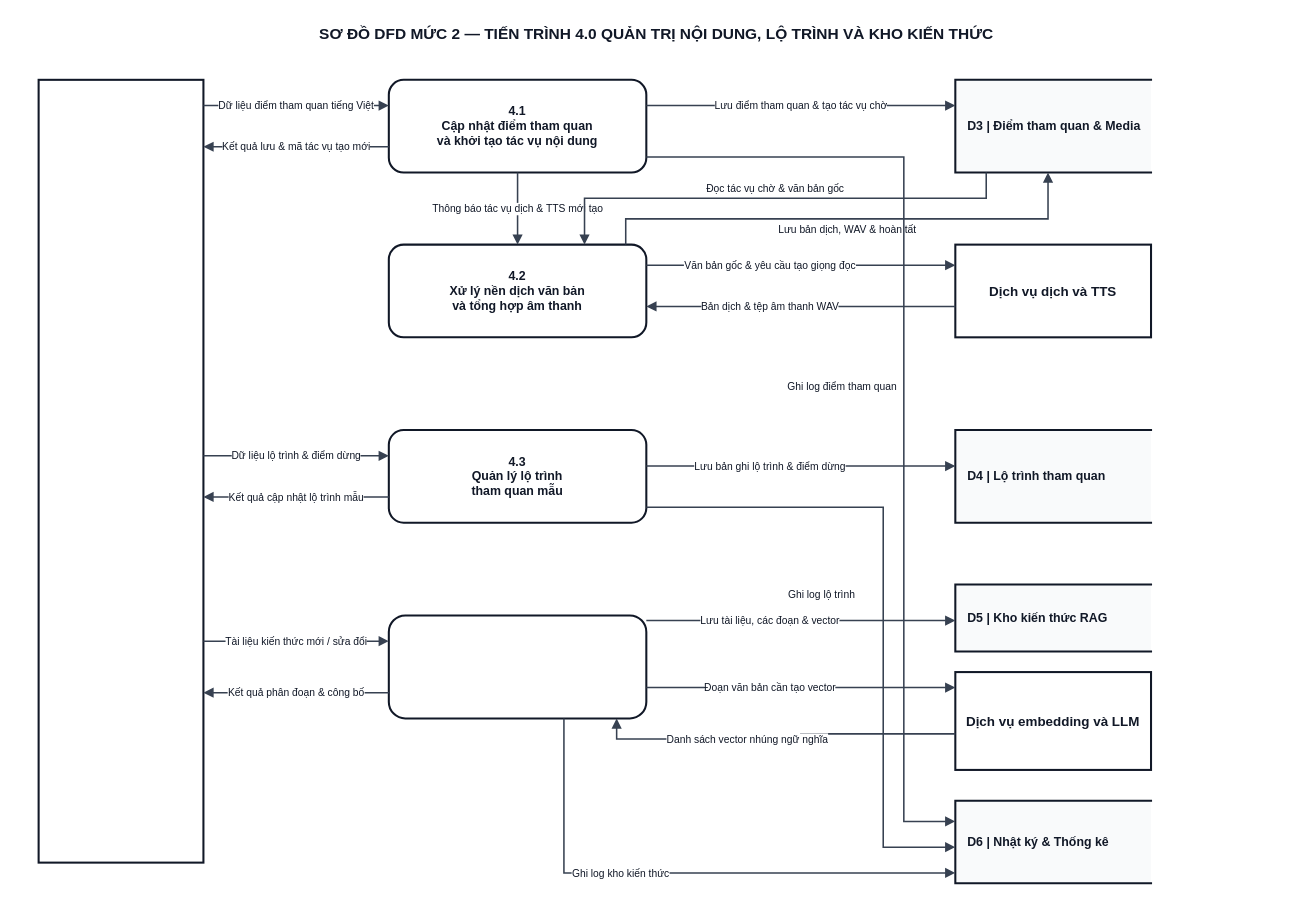
This 1312x901 diagram has some shape labels left out. Here are the shapes that lost their labels. From the top down, the box of each, then its label:
(37, 78, 204, 863): Nhân viên
(387, 614, 647, 719): 4.4 Phân đoạn tài liệu và tạo vector kho kiến thức
